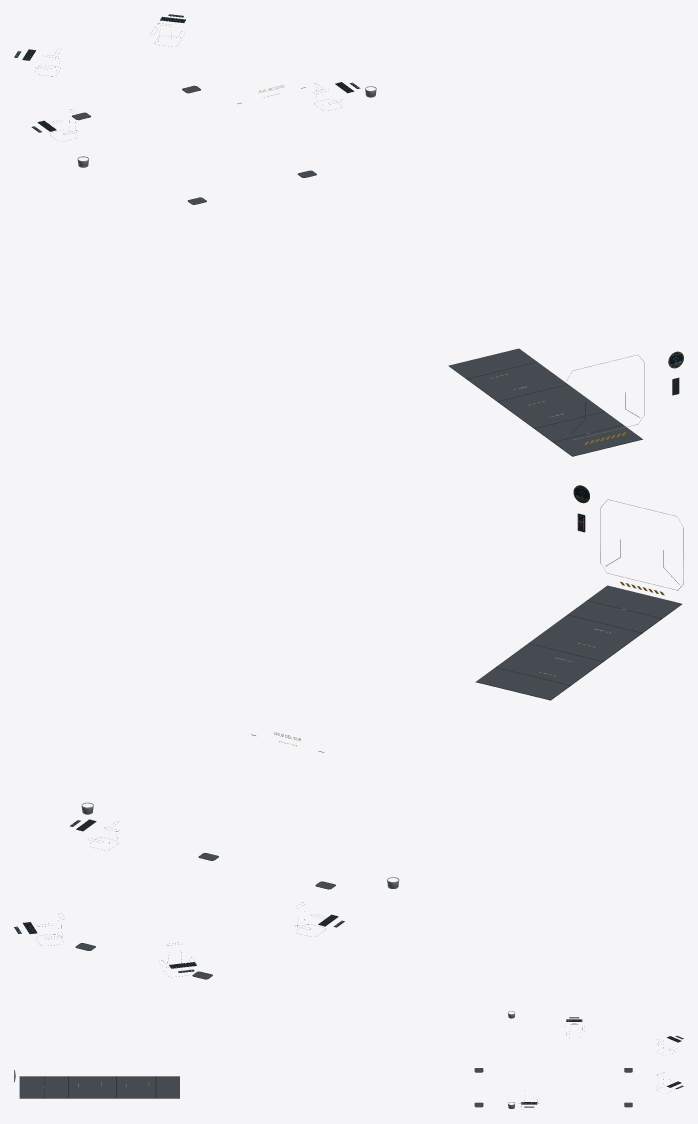
Rendered from cruz-del-sur-reference-details-galley-ready.glb.
3 views of the same model, one above another, from view 1: azimuth 30°, elevation 25°; view 2: azimuth 150°, elevation 25°; view 3: azimuth 270°, elevation 25° (orthographic). The views are drawn at different scales.
Visible parts, largest first — view 1: REFINED_arrival_static_CDS DETAIL_Graphite deck - restrained; view 2: REFINED_arrival_static_CDS DETAIL_Graphite deck - restrained; view 3: REFINED_arrival_static_CDS DETAIL_Graphite deck - restrained, REFINED_arrival_static_CDS DETAIL_Recesses and gaskets.
Part boxes in pixels (left/top/right/bottom): REFINED_arrival_static_CDS DETAIL_Graphite deck - restrained: left=449, top=348, right=641, bottom=455; REFINED_arrival_static_CDS DETAIL_Graphite deck - restrained: left=476, top=585, right=680, bottom=699; REFINED_arrival_static_CDS DETAIL_Graphite deck - restrained: left=20, top=1076, right=179, bottom=1098; REFINED_arrival_static_CDS DETAIL_Recesses and gaskets: left=19, top=1076, right=179, bottom=1098.
Size of the model in its own units: 8.39 by 3.07 by 25.31.
Materials: 17 (2 with a texture image).
